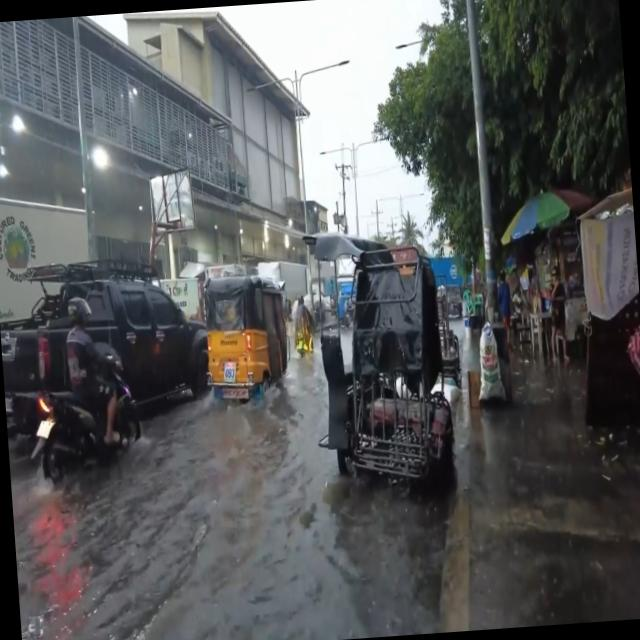half: (66, 294, 92, 328)
